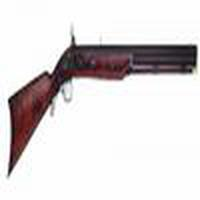gun: (9, 43, 198, 167)
